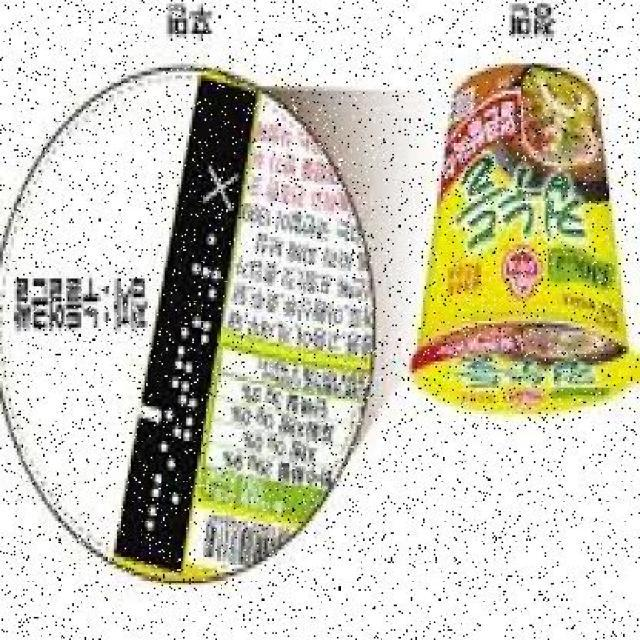Miscellaneous: (406, 56, 640, 444)
